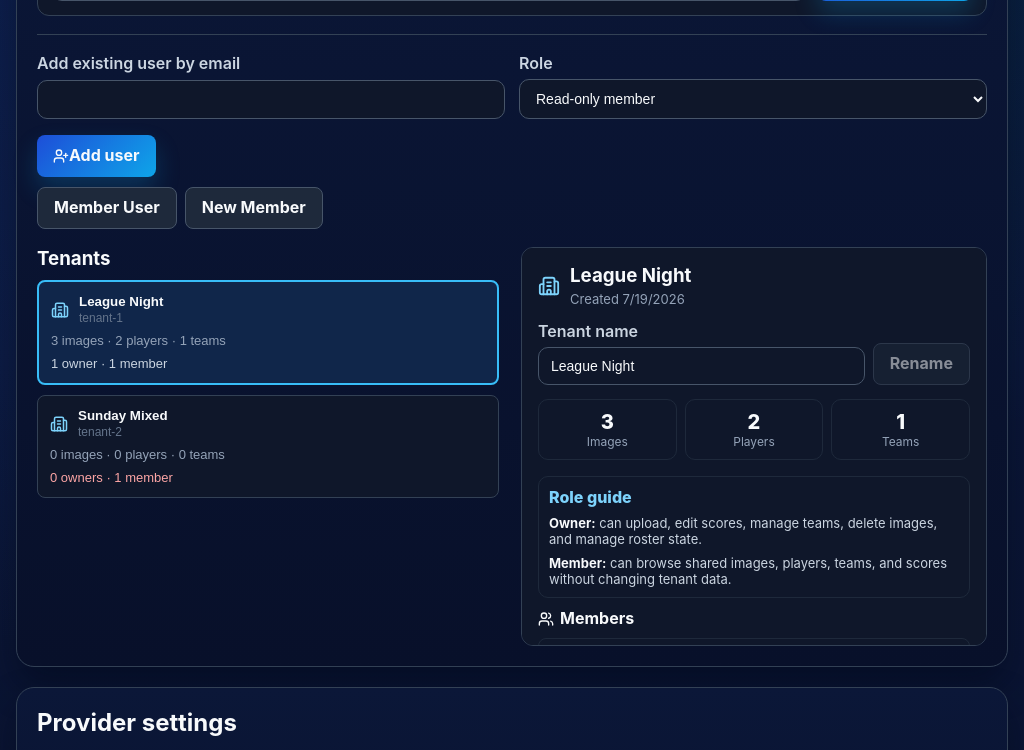
Test: AdminConsole tenancy management › renames the selected tenant
The width and height of the screenshot is (1024, 750).
(page scrolled)
Replace the text in the field labelled "Tenant name" with "Renamed League" at (701, 366), box x1=538 y1=347 x2=865 y2=385
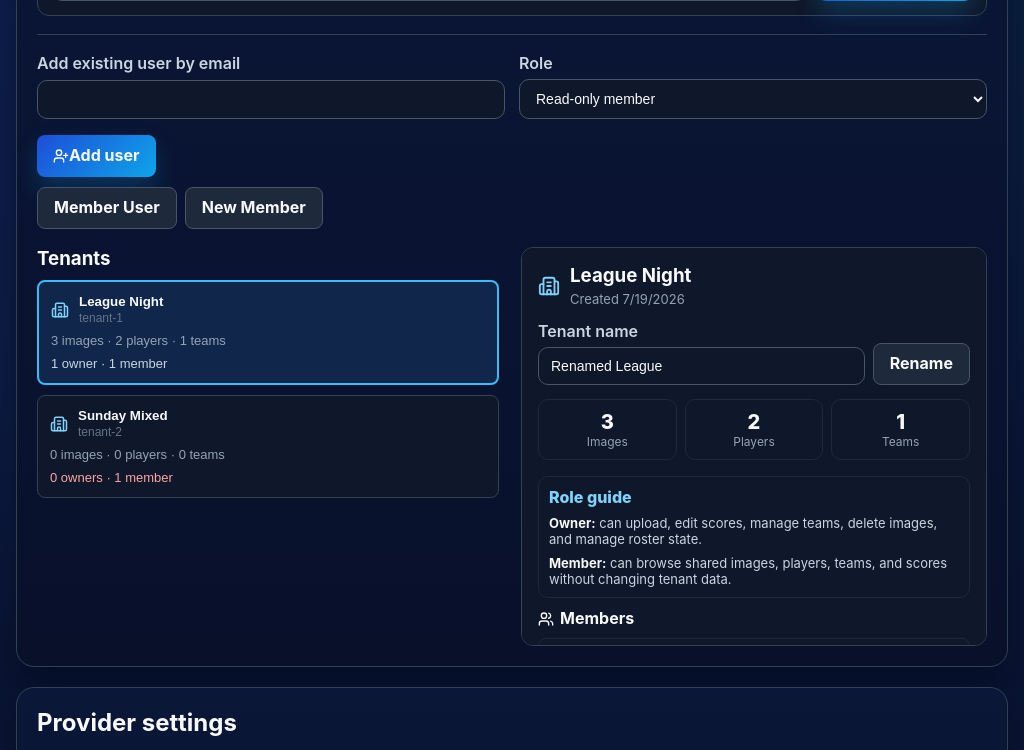
Click the button "Rename" at (921, 364), box x1=873 y1=343 x2=970 y2=385
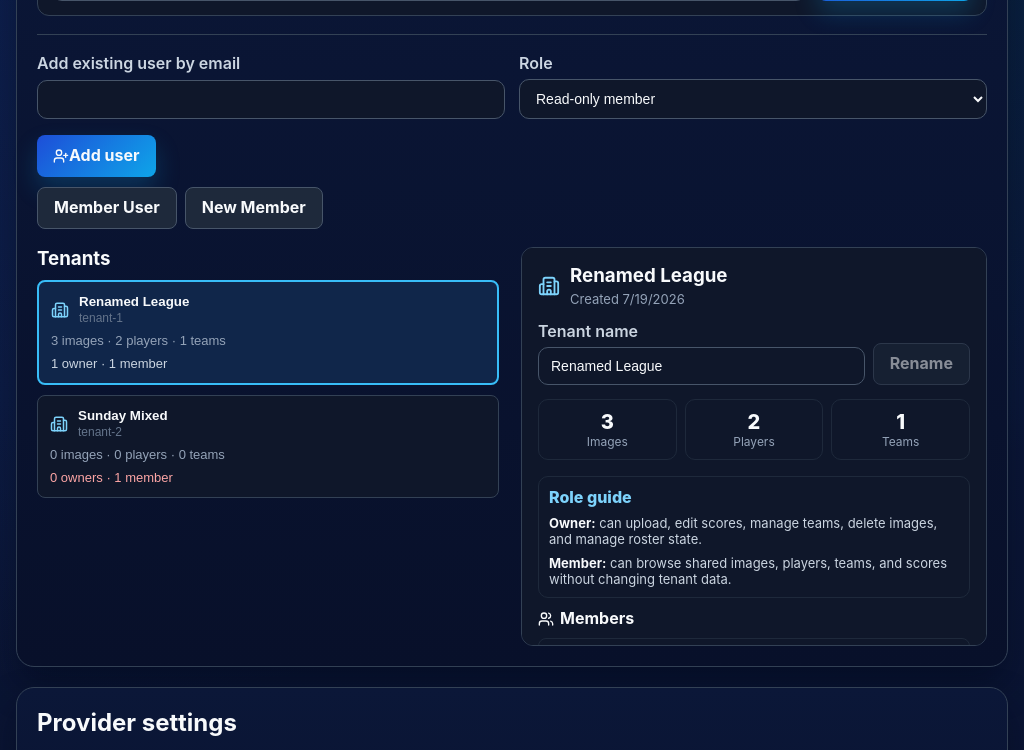
Result: the button "Renamed League" is shown at x1=37 y1=280 x2=499 y2=385
